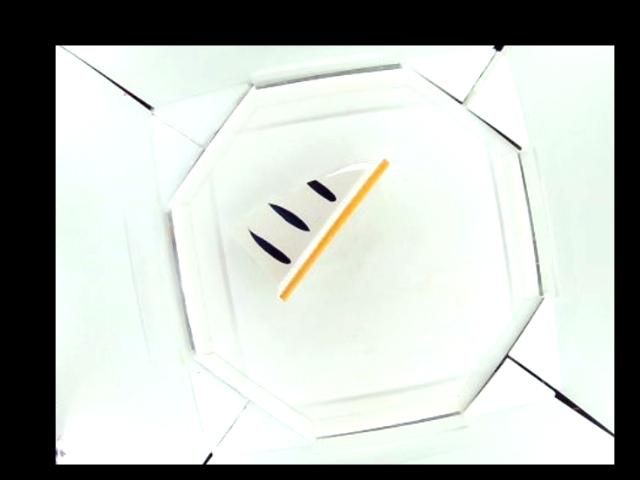China: (240, 157, 388, 303)
